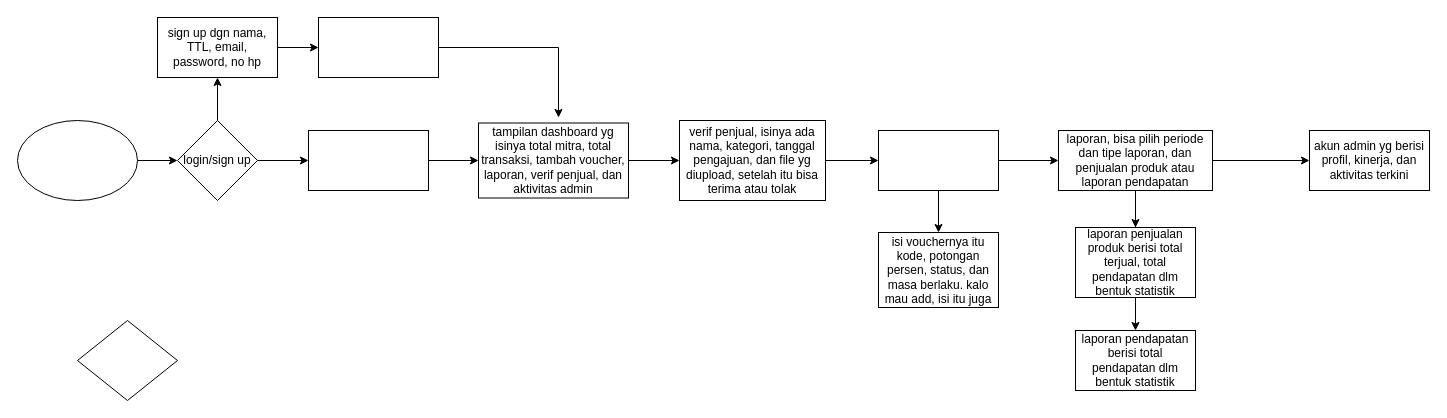
Some shapes in this 1447 by 418 pixel diagram are drawn without their labels. Each missing label, with the centre of its shape:
Bulb burned out?: point 127,360
login dgn email & password: point 368,160
manajemen voucher, bisa tambah voucher dan mengedit voucher yg tersedia: point 938,160
tampilan awal aplikasi: point 77,160
verif identitas unggah ID card: point 378,47
